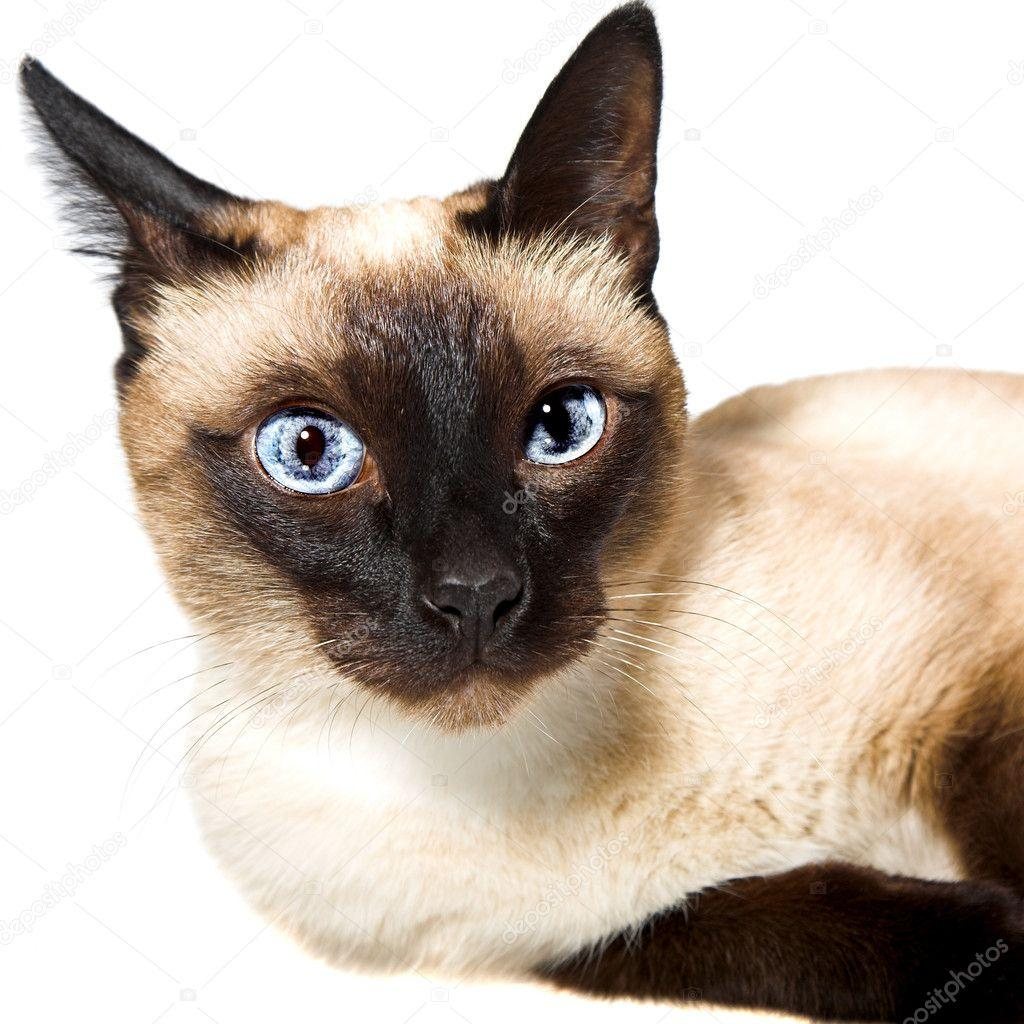siamese: (1, 1, 731, 757)
